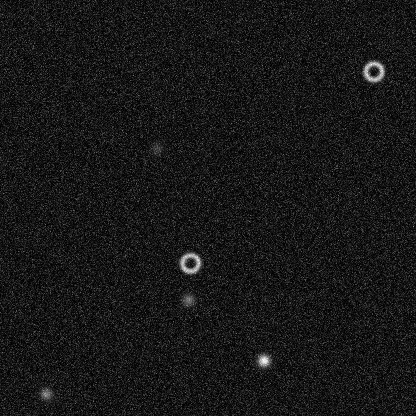Ring: (178, 250, 202, 274), (361, 59, 385, 83)
Spot: (37, 385, 53, 401), (180, 291, 196, 307), (255, 352, 271, 368), (148, 140, 164, 156)
